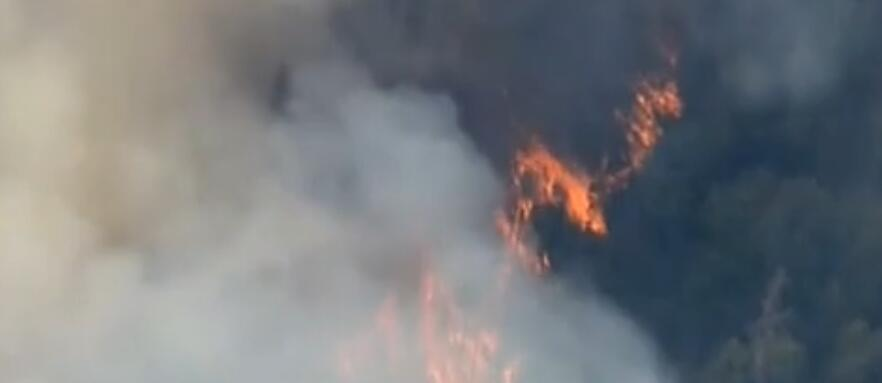fire: (381, 41, 683, 382)
yanwu: (0, 1, 680, 381)
